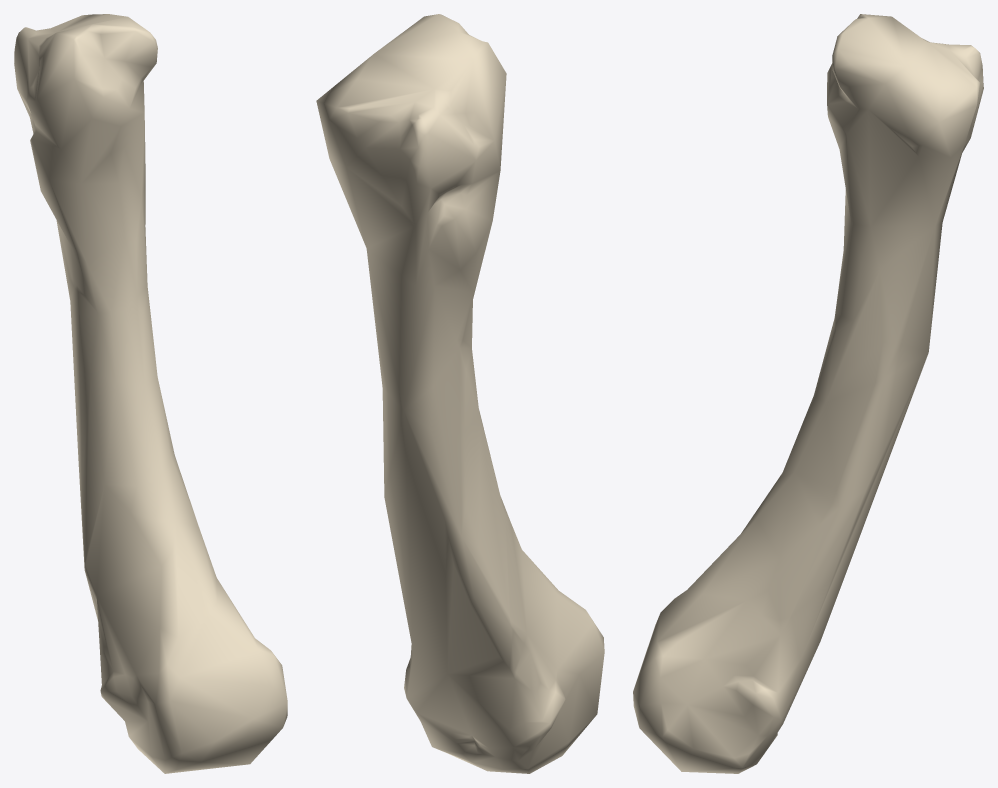
File: fourth-metacarpal-bone-r.glb
The picture shows the model from 3 angles, left to right: view 1: azimuth 30°, elevation 25°; view 2: azimuth 150°, elevation 25°; view 3: azimuth 270°, elevation 25°; orthographic projection. The views are drawn at different scales.
Visible parts, largest first — view 1: Fourth metacarpal bone.r; view 2: Fourth metacarpal bone.r; view 3: Fourth metacarpal bone.r.
Part boxes in pixels (bbox=[...]): Fourth metacarpal bone.r: bbox=[14, 14, 287, 773]; Fourth metacarpal bone.r: bbox=[316, 14, 604, 773]; Fourth metacarpal bone.r: bbox=[633, 14, 983, 773].
Bounding box in the file's own units: 0.0131 × 0.0621 × 0.0271.
